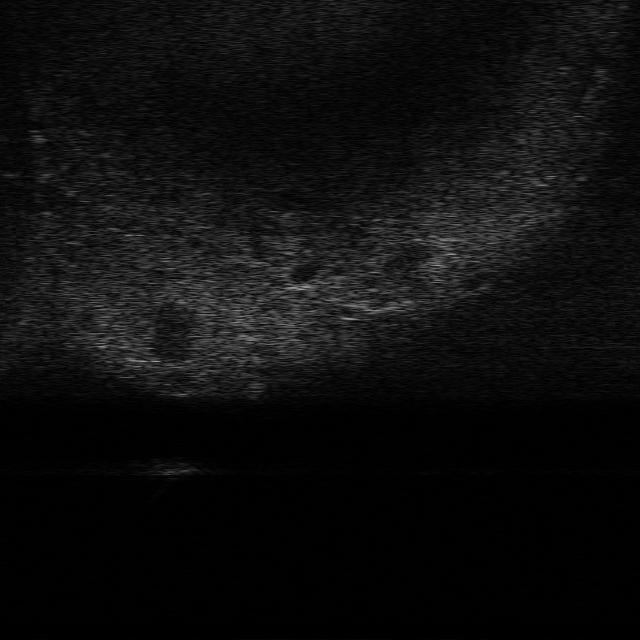ball: (236, 375, 275, 401)
cube: (144, 454, 200, 478)
